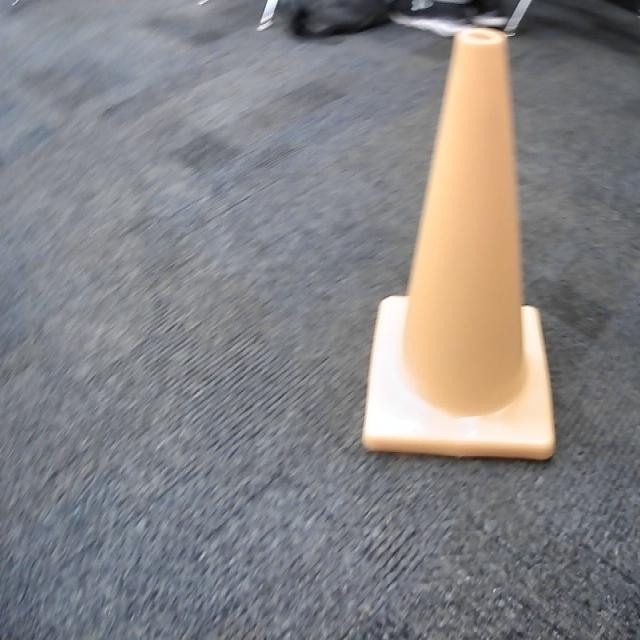cone: (362, 16, 560, 472)
